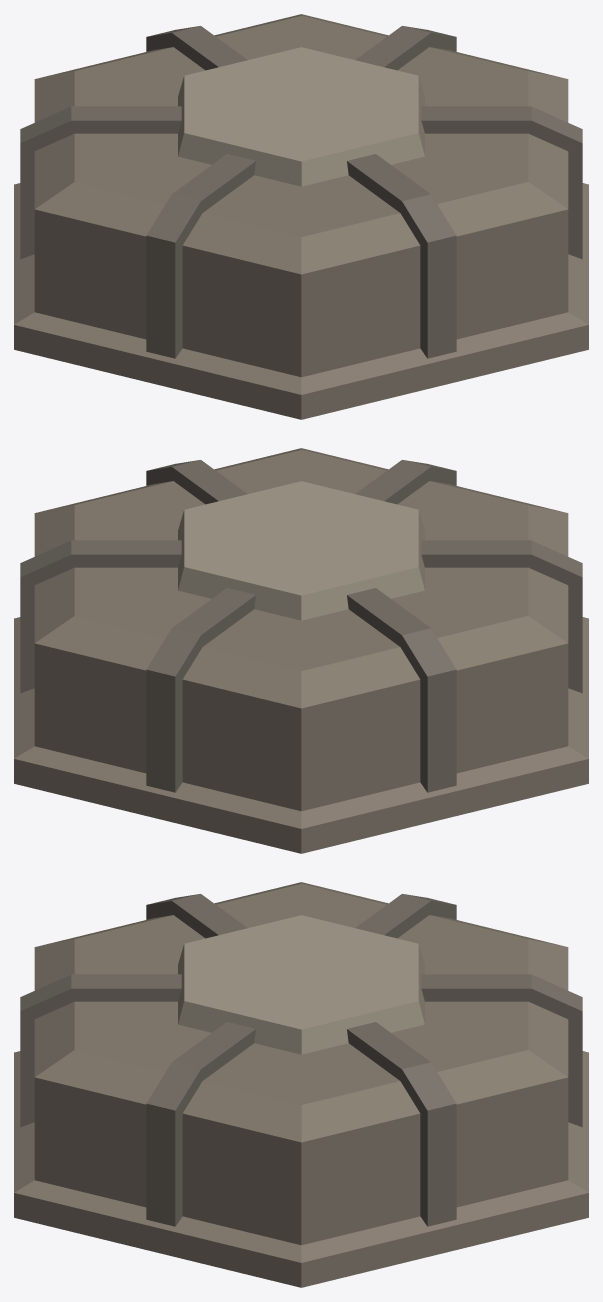
File: SM_Prop_Mine_02.fbx
3 renders of one model, top to bottom at view 1: azimuth 30°, elevation 25°; view 2: azimuth 150°, elevation 25°; view 3: azimuth 270°, elevation 25°, orthographic.
Visible parts, largest first — view 1: SM_Prop_Mine_02; view 2: SM_Prop_Mine_02; view 3: SM_Prop_Mine_02.
Part boxes in pixels (x1=…): SM_Prop_Mine_02: x1=14, y1=14, x2=588, y2=419; SM_Prop_Mine_02: x1=14, y1=448, x2=588, y2=853; SM_Prop_Mine_02: x1=14, y1=882, x2=588, y2=1287.
Bounding box in the file's own units: 11.64 × 3.39 × 10.08.
